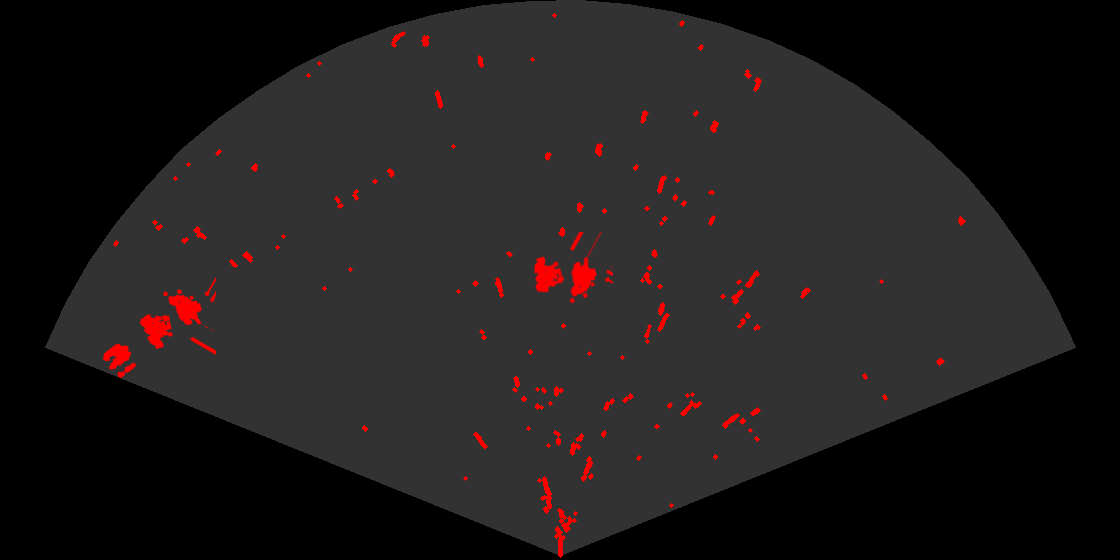ball: (101, 342, 137, 379)
cage: (138, 276, 216, 356), (532, 232, 613, 305)
